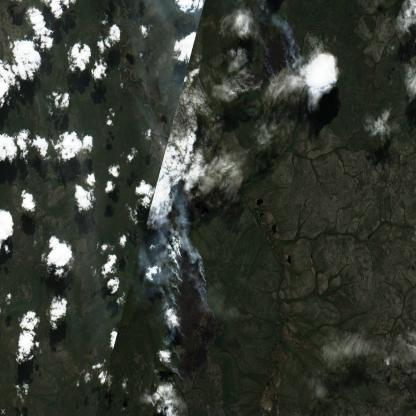fire: (156, 218, 222, 388), (245, 28, 305, 82)
